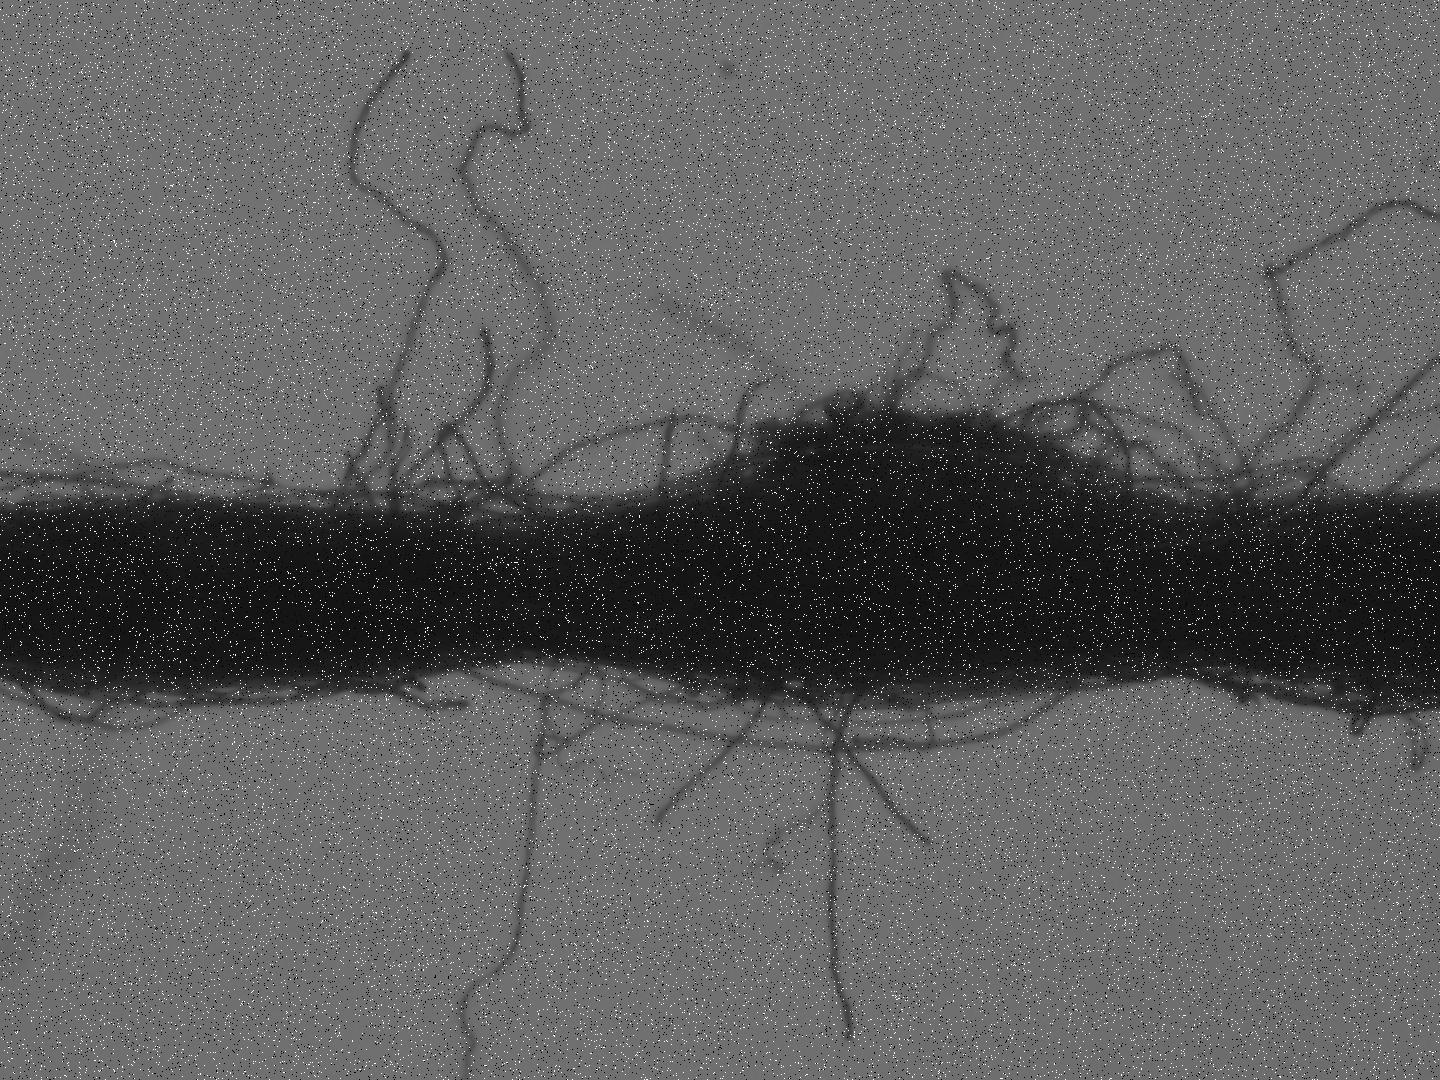loop_fiber: (742, 388, 1128, 506), (1180, 664, 1433, 743), (406, 423, 579, 533), (7, 455, 321, 509), (515, 657, 782, 714), (1128, 450, 1332, 524), (10, 672, 137, 732), (279, 674, 420, 703)
protruding_fiber: (333, 48, 456, 509), (823, 682, 869, 1051)
